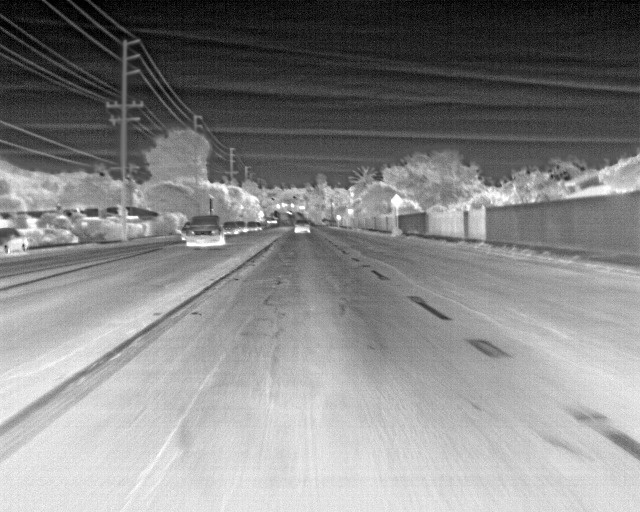vehicle: (187, 215, 224, 249), (1, 226, 30, 252), (292, 219, 311, 234)
